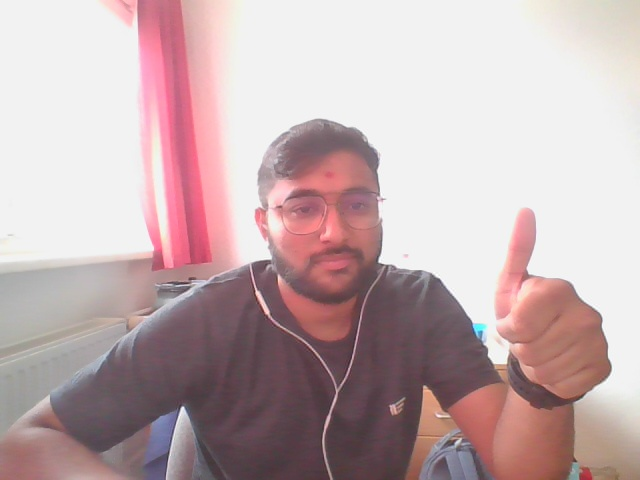ThumbsUp: (489, 207, 616, 409)
